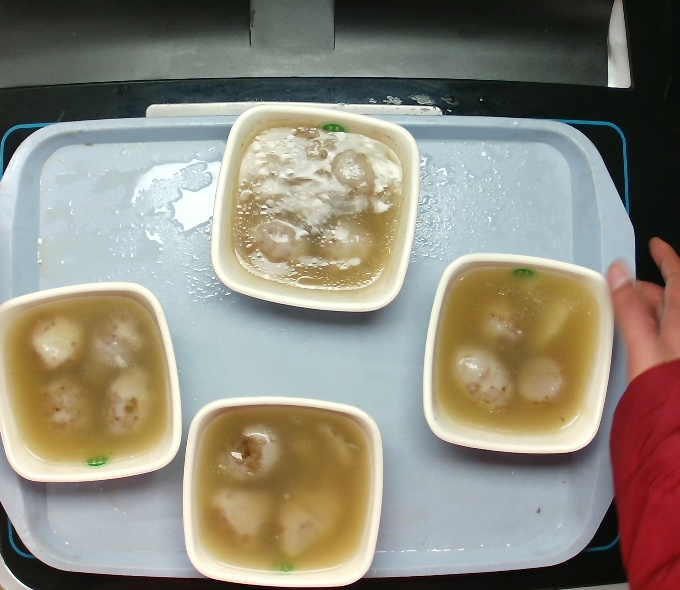wcq-YuTouTang: (190, 402, 373, 575), (225, 121, 406, 294), (431, 262, 602, 439), (1, 292, 171, 466)
